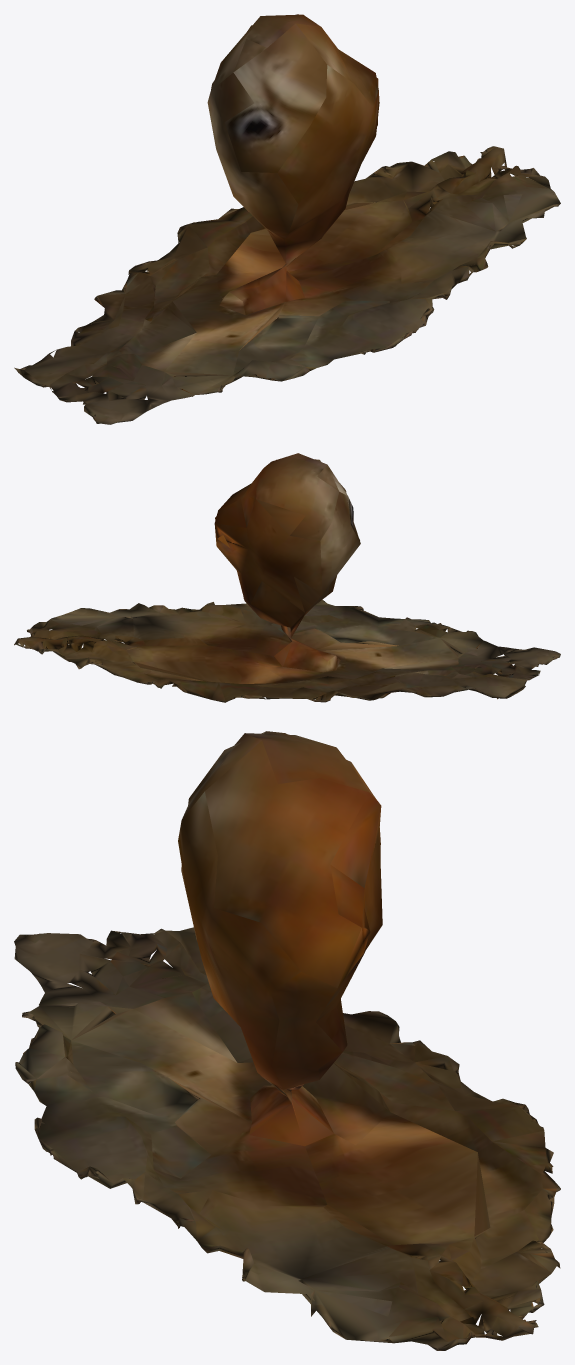
The model's file is cogu_bolha_seiva.glb.
The picture shows the model from 3 angles, top to bottom: view 1: azimuth 30°, elevation 25°; view 2: azimuth 150°, elevation 25°; view 3: azimuth 270°, elevation 25°; orthographic projection. The views are drawn at different scales.
Parts seen in each view (by area): view 1: geometry_0; view 2: geometry_0; view 3: geometry_0.
Boxes of the visible parts, x1=… form: geometry_0: x1=14, y1=14, x2=560, y2=424; geometry_0: x1=14, y1=453, x2=560, y2=702; geometry_0: x1=14, y1=731, x2=560, y2=1350.
Bounding box in the file's own units: 1 × 0.4451 × 0.5502.
1 material, 1 textured.
